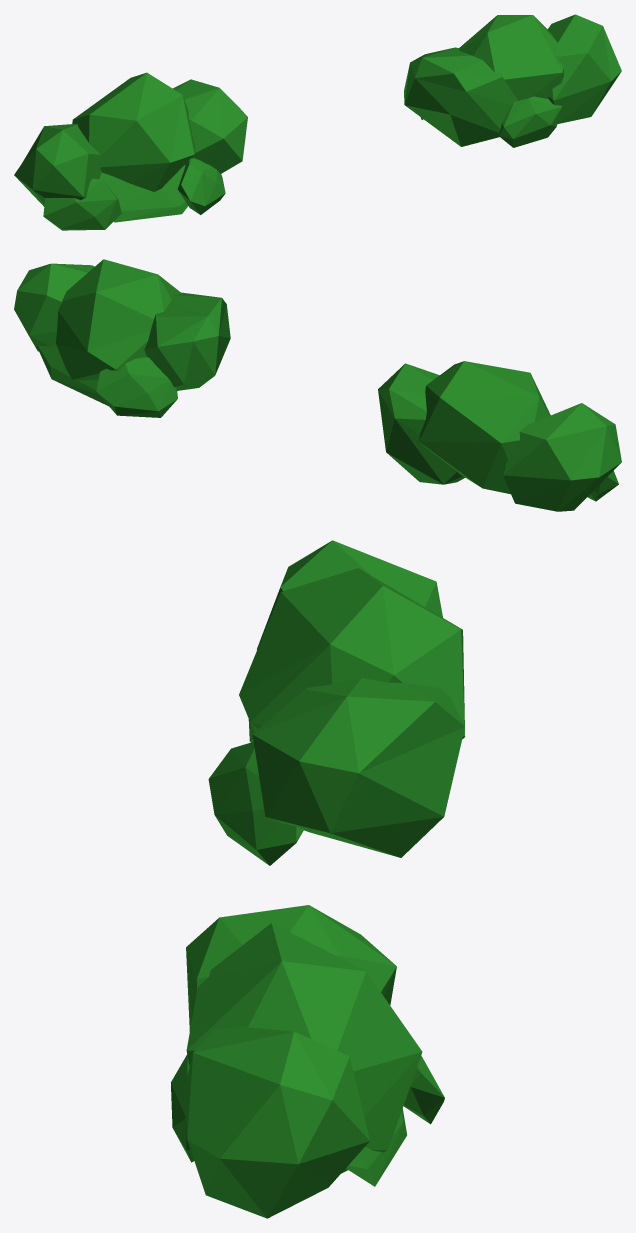
File: bush.fbx
3 renders of one model, top to bottom at view 1: azimuth 30°, elevation 25°; view 2: azimuth 150°, elevation 25°; view 3: azimuth 270°, elevation 25°, orthographic. The views are drawn at different scales.
Visible parts, largest first — view 1: Icosphere.001, Icosphere.009, Icosphere.007, Icosphere.008, Icosphere.002, Icosphere.003, Icosphere.005, Icosphere.004, Icosphere.011, Icosphere.006; view 2: Icosphere.001, Icosphere.007, Icosphere.002, Icosphere.009, Icosphere.003, Icosphere.008, Icosphere.012, Icosphere.010, Icosphere.005; view 3: Icosphere.003, Icosphere.008, Icosphere.007, Icosphere.001, Icosphere.009, Icosphere.006, Icosphere.002, Icosphere.012, Icosphere.010, Icosphere.011.
Boxes of the visible parts, <box> form: Icosphere.001: <box>72,72,195,192</box>; Icosphere.009: <box>404,47,517,146</box>; Icosphere.007: <box>459,15,563,100</box>; Icosphere.008: <box>547,14,621,123</box>; Icosphere.002: <box>14,124,101,206</box>; Icosphere.003: <box>173,79,247,173</box>; Icosphere.005: <box>43,178,121,230</box>; Icosphere.004: <box>99,165,187,222</box>; Icosphere.011: <box>499,96,561,147</box>; Icosphere.006: <box>177,158,225,214</box>; Icosphere.001: <box>419,361,550,494</box>; Icosphere.007: <box>56,259,181,380</box>; Icosphere.002: <box>503,403,621,511</box>; Icosphere.009: <box>144,292,230,390</box>; Icosphere.003: <box>378,363,464,484</box>; Icosphere.008: <box>14,263,94,351</box>; Icosphere.012: <box>96,356,177,417</box>; Icosphere.010: <box>37,343,108,406</box>; Icosphere.005: <box>587,470,618,501</box>; Icosphere.003: <box>252,678,464,857</box>; Icosphere.008: <box>183,1026,369,1218</box>; Icosphere.007: <box>186,923,422,1173</box>; Icosphere.001: <box>239,568,465,738</box>; Icosphere.009: <box>186,905,396,1031</box>; Icosphere.006: <box>208,742,304,865</box>; Icosphere.002: <box>257,540,442,649</box>; Icosphere.012: <box>403,1055,444,1124</box>; Icosphere.010: <box>346,1108,406,1186</box>; Icosphere.011: <box>171,1054,194,1162</box>.
Size of the model in its own units: 70.04 by 14.91 by 15.66.
